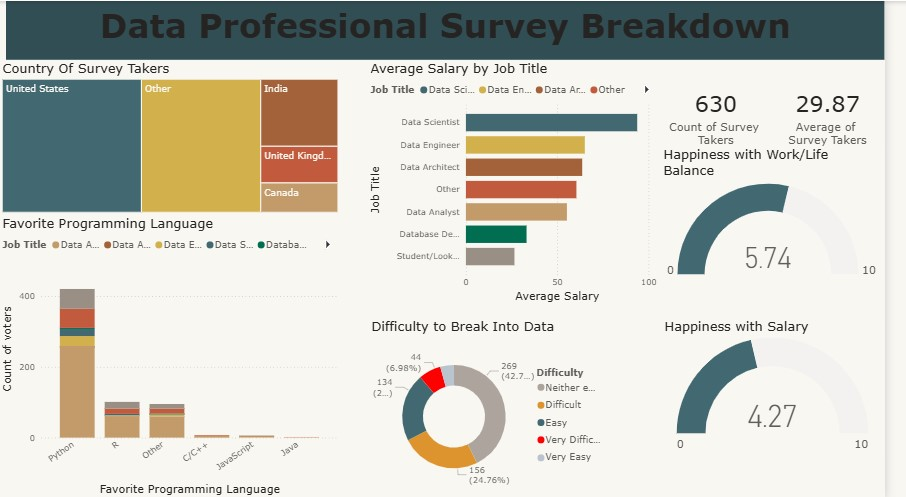

This screenshot's page, from the dashboard's own definition file:
{"tool":"powerbi","page":{"name":"Page 1","canvas":[1280,720],"ordinal":0},"visuals":[{"type":"textbox","box":[9.7,0,1270.3,85.1],"z":0},{"type":"card","fields":{"Values":["CountNonNull(Data Professional Survey.Unique ID)"]},"box":[957.7,84.8,158.8,146.5],"z":1000},{"type":"card","fields":{"Values":["Avg(Data Professional Survey.Q10 - Current Age)"]},"box":[1116.5,84.8,163.5,146.5],"z":2000},{"type":"barChart","title":"Average Salary by Job Title ","fields":{"Category":["Data Professional Survey.Q1 - Which Title Best Fits your Current Role?.1"],"Y":["Avg(Data Professional Survey.Average salary)"],"Series":["Data Professional Survey.Q1 - Which Title Best Fits your Current Role?.1"]},"box":[532,84.8,424.1,354.7],"z":3000},{"type":"columnChart","title":"Favorite Programming Language","fields":{"Category":["Data Professional Survey.Q5 - Favorite Programming Language.1"],"Y":["CountNonNull(Data Professional Survey.Unique ID)"],"Series":["Data Professional Survey.Q1 - Which Title Best Fits your Current Role?.1"]},"box":[0,310,495,410.2],"z":4000},{"type":"treemap","title":"Country Of Survey Takers","fields":{"Group":["Data Professional Survey.Q11 - Which Country do you live in?.1"],"Values":["CountNonNull(Data Professional Survey.Q11 - Which Country do you live in?.1)"]},"box":[0,84.8,495,225.2],"z":5000},{"type":"gauge","title":"Happiness with Work/Life Balance","fields":{"Y":["Avg(Data Professional Survey.Q6 - How Happy are you in your Current Position with the following? (Work/Life Balance))"],"MinValue":["Min(Data Professional Survey.Q6 - How Happy are you in your Current Position with the following? (Work/Life Balance))"],"MaxValue":["Max(Data Professional Survey.Q6 - How Happy are you in your Current Position with the following? (Work/Life Balance))"]},"box":[956.1,209.7,322.3,198.9],"z":6000},{"type":"gauge","title":"Happiness with Salary","fields":{"Y":["Avg(Data Professional Survey.Q6 - How Happy are you in your Current Position with the following? (Salary))"],"MinValue":["Min(Data Professional Survey.Q6 - How Happy are you in your Current Position with the following? (Salary))"],"MaxValue":["Max(Data Professional Survey.Q6 - How Happy are you in your Current Position with the following? (Salary))"]},"box":[957.7,458,322.3,200.5],"z":7000},{"type":"donutChart","title":"Difficulty to Break  Into Data","fields":{"Category":["Data Professional Survey.Q7 - How difficult was it for you to break into Data?"],"Y":["CountNonNull(Data Professional Survey.Q7 - How difficult was it for you to break into Data?)"]},"box":[533.6,458,351.6,262.2],"z":8000}]}

Visuals, with their boxes in screenshot pixels (x1, y1, x2, y2), scaled from the page's 1280x720 canvas onto the 906x497 screenshot:
textbox: [left=7, top=0, right=905, bottom=59]
card - CountNonNull(Data Professional Survey.Unique ID): [left=678, top=59, right=790, bottom=160]
card - Avg(Data Professional Survey.Q10 - Current Age): [left=790, top=59, right=905, bottom=160]
"Average Salary by Job Title " barChart: [left=377, top=59, right=677, bottom=303]
"Favorite Programming Language" columnChart: [left=0, top=214, right=350, bottom=496]
"Country Of Survey Takers" treemap: [left=0, top=59, right=350, bottom=214]
"Happiness with Work/Life Balance" gauge: [left=677, top=145, right=905, bottom=282]
"Happiness with Salary" gauge: [left=678, top=316, right=905, bottom=455]
"Difficulty to Break  Into Data" donutChart: [left=378, top=316, right=627, bottom=496]
